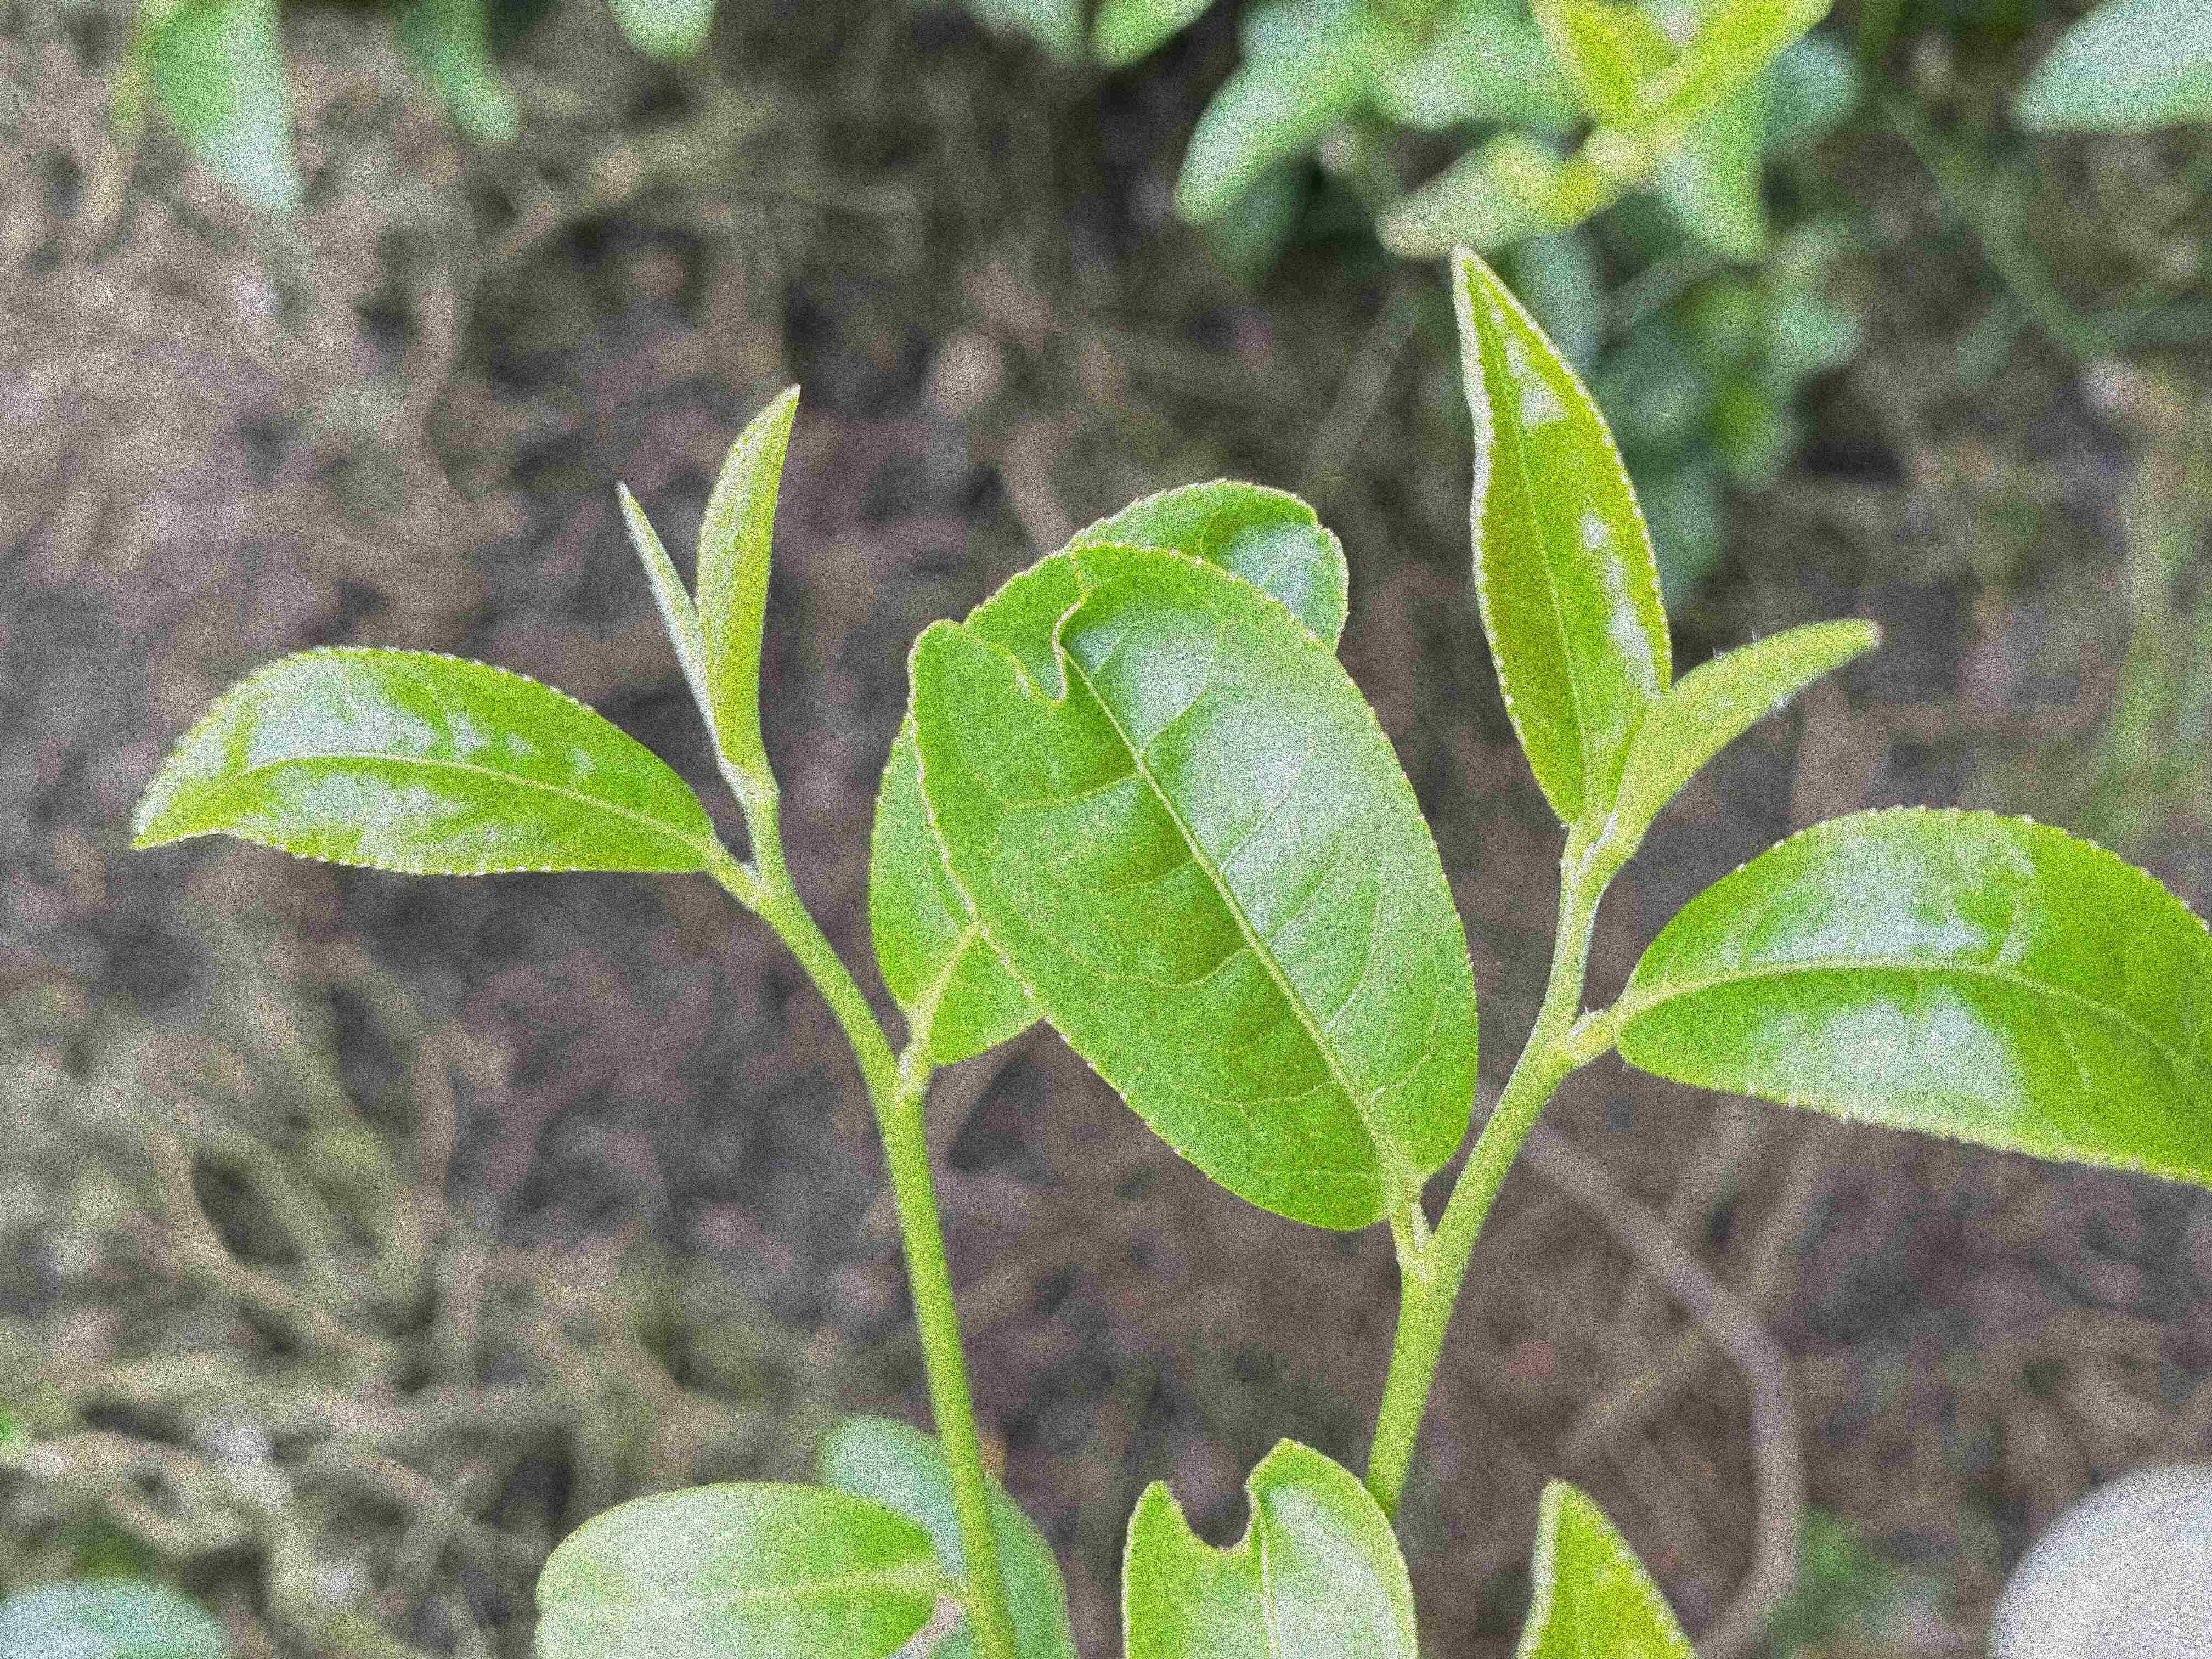chihuo_low: (909, 533, 1482, 1229), (1115, 1432, 1425, 1657)
healthy: (1615, 802, 2209, 1187), (127, 641, 719, 880), (1447, 246, 1674, 823)
